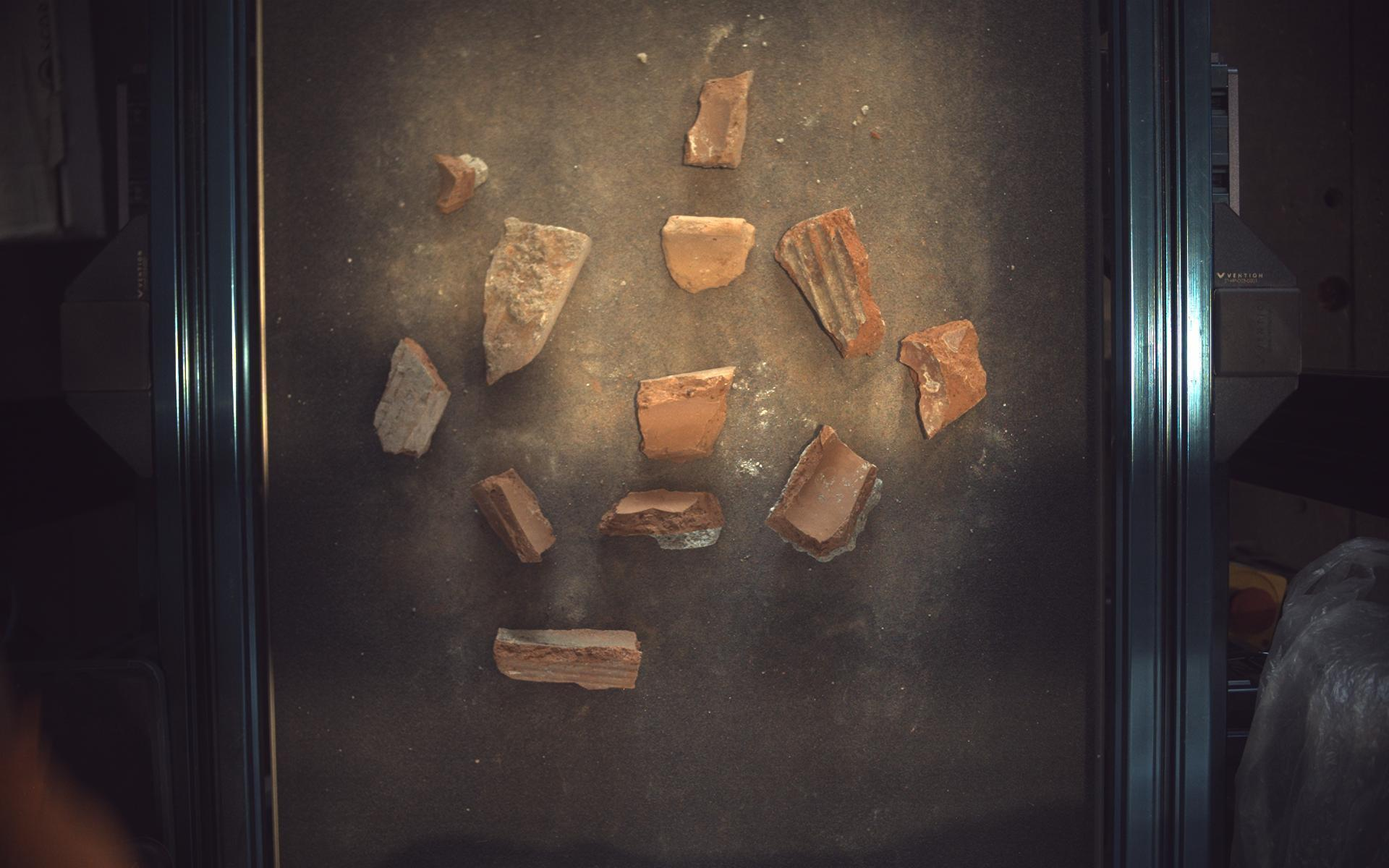brick: (483, 216, 592, 385), (776, 207, 887, 358), (768, 425, 884, 563), (901, 320, 989, 438), (373, 337, 451, 458), (637, 367, 736, 461), (493, 630, 642, 691), (472, 469, 556, 563), (600, 490, 726, 550), (663, 215, 757, 293), (684, 68, 755, 168), (434, 153, 489, 213)
